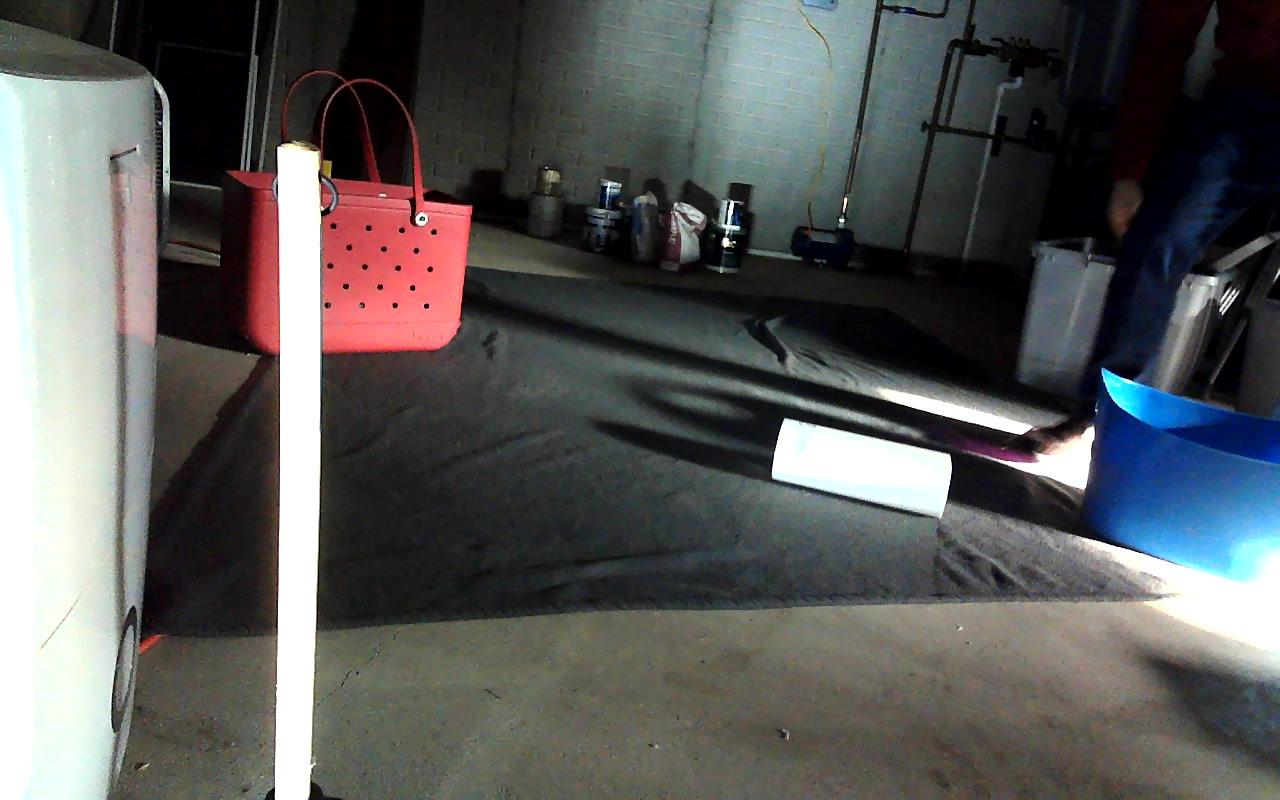coral: (774, 417, 951, 516)
